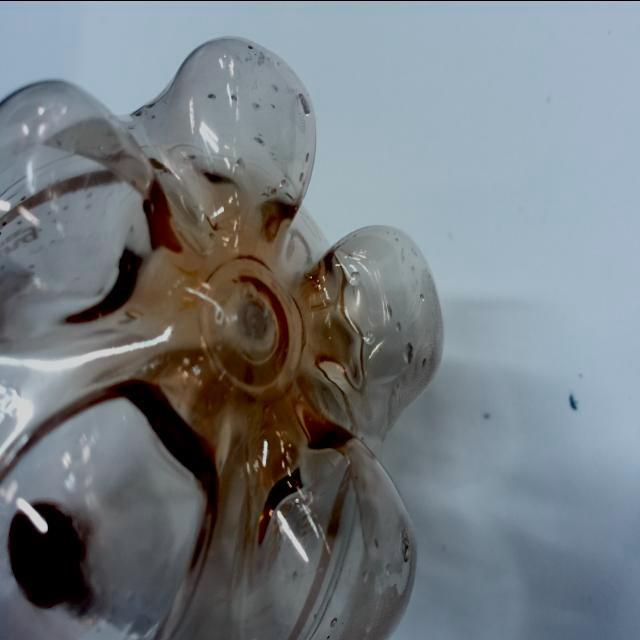plastic: (0, 5, 489, 640)
